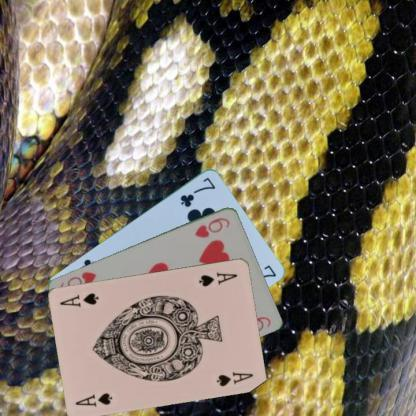6h: (192, 214, 232, 239)
7c: (177, 173, 217, 208)
As: (196, 269, 238, 288), (73, 390, 114, 408)
